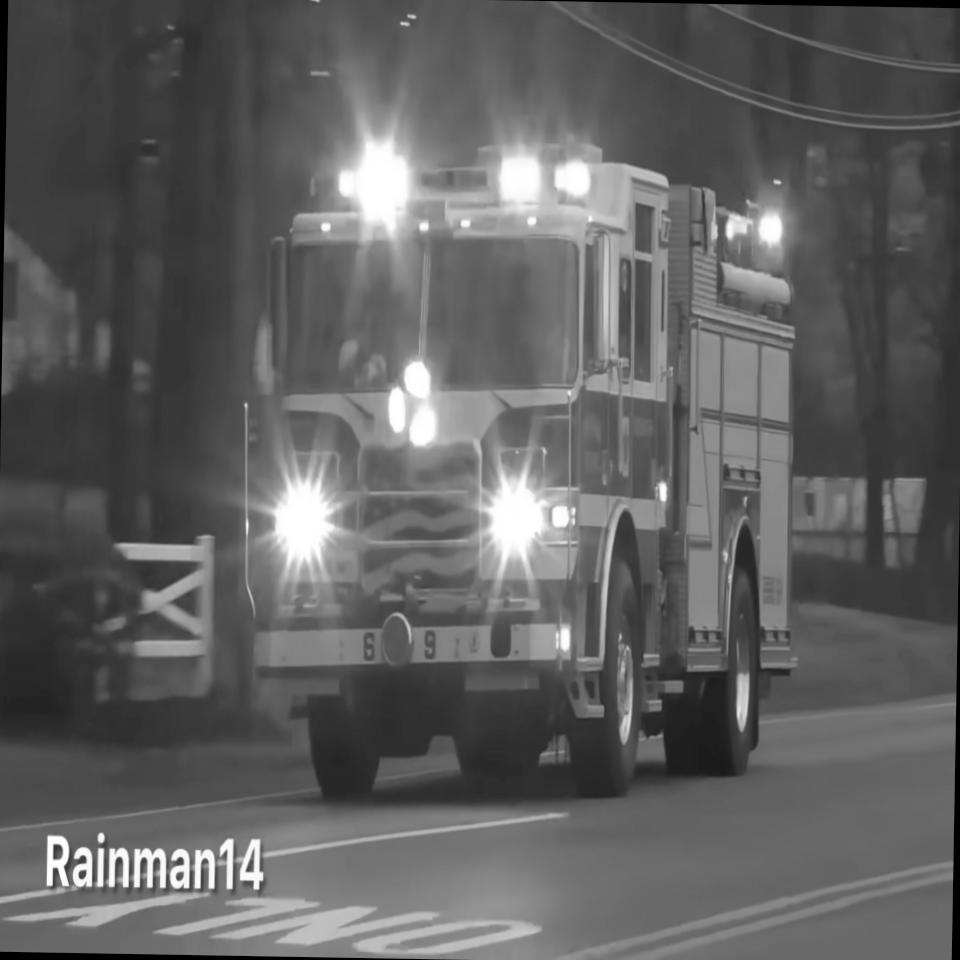viatura: (232, 127, 811, 798)
